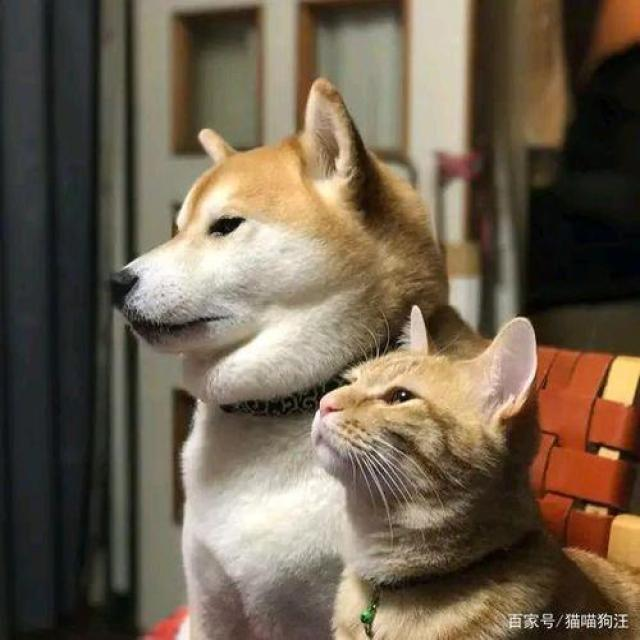cat: (320, 300, 558, 547)
dog: (113, 70, 400, 412)
